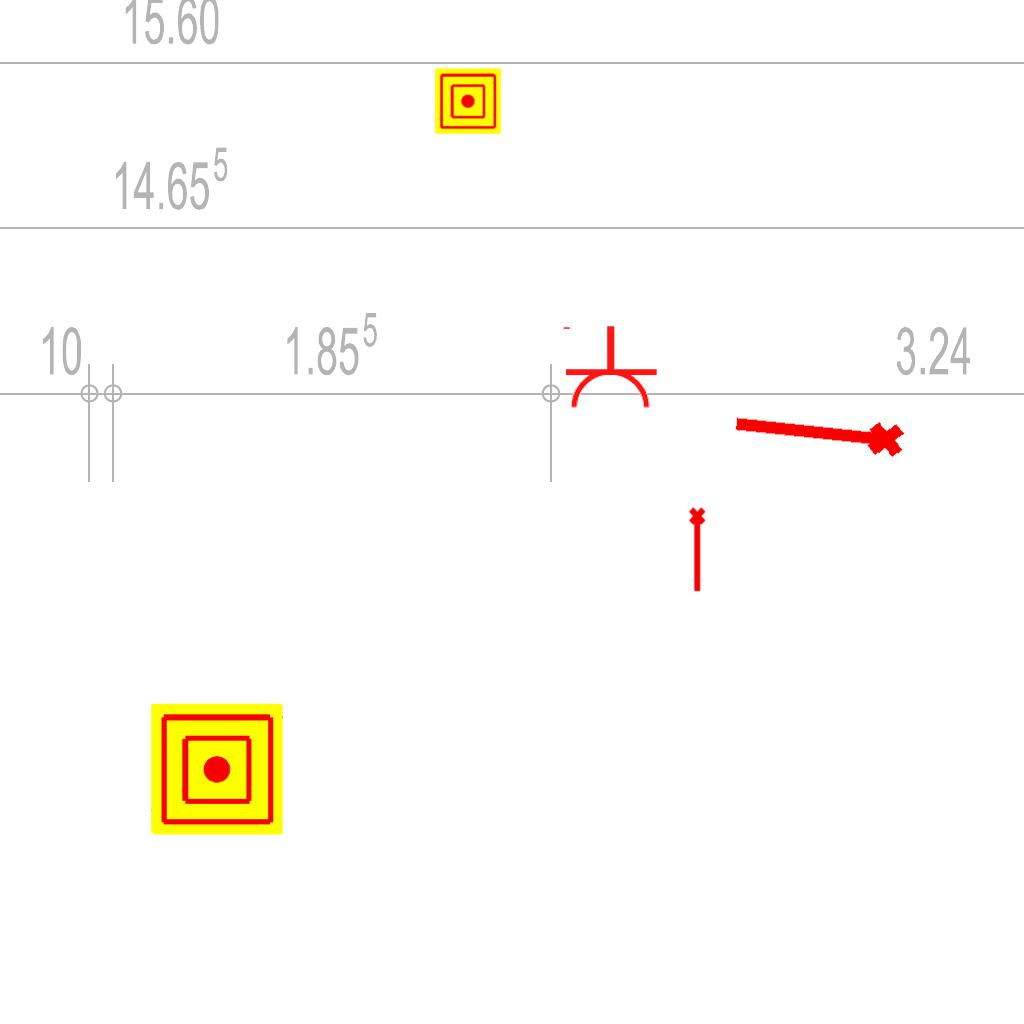ASR_Ansaugoeffnung: (728, 402, 908, 468), (687, 506, 710, 594)
NAM-Nichtautomatischer_Melder: (151, 703, 283, 835), (435, 68, 501, 134)
Schukosteckdose_einfach: (559, 324, 659, 411)
